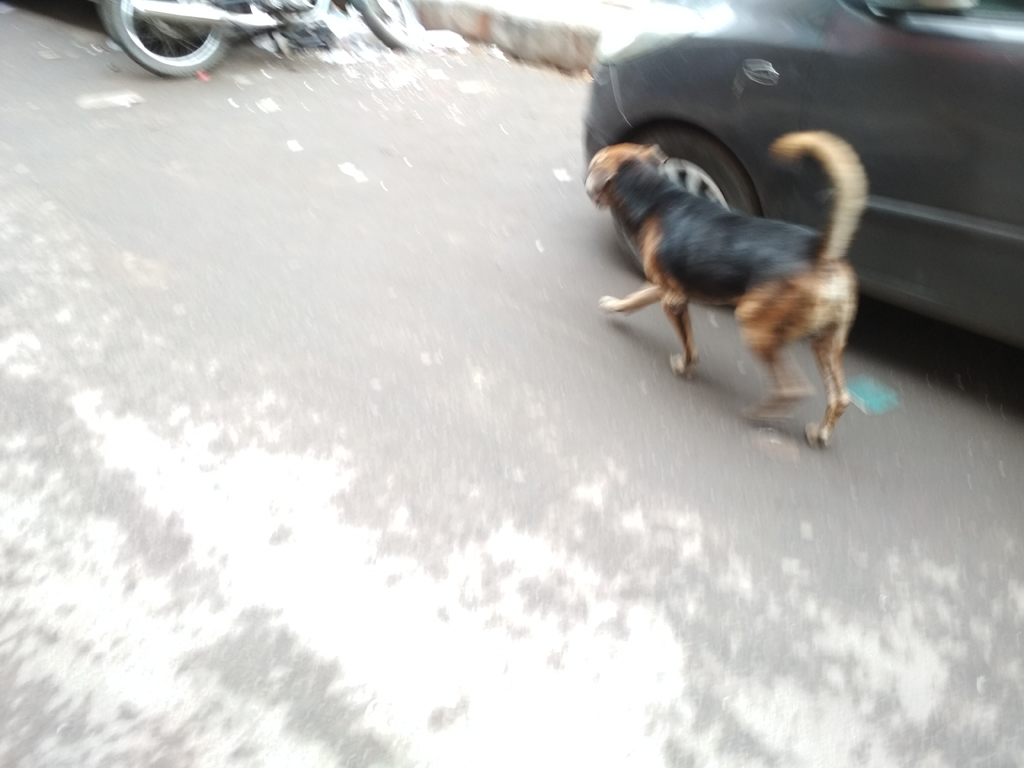dog: (582, 127, 869, 447)
